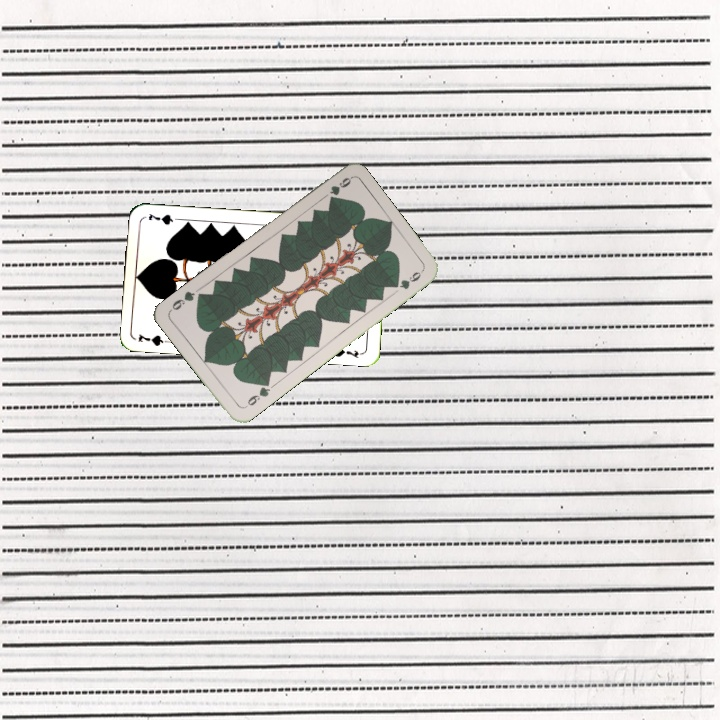G7: (135, 330, 175, 348)
G9: (240, 378, 273, 411), (325, 173, 354, 201)
